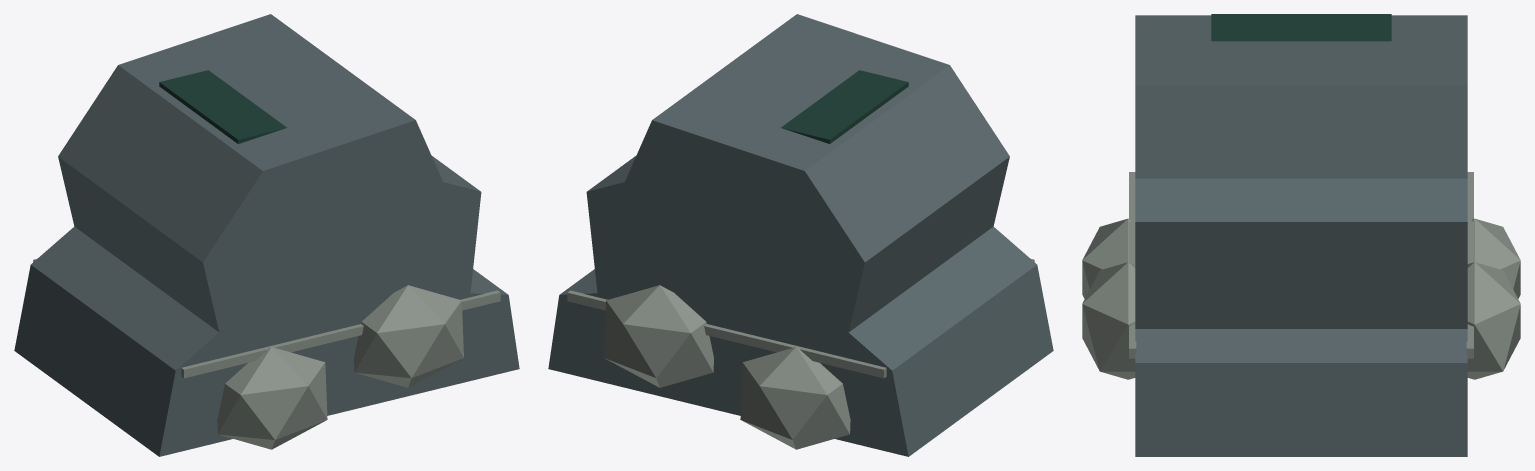
The model's file is PirateCove_CliffWall_Showcase.glb.
The picture shows the model from 3 angles, left to right: view 1: azimuth 30°, elevation 25°; view 2: azimuth 150°, elevation 25°; view 3: azimuth 270°, elevation 25°; orthographic projection. The views are drawn at different scales.
Parts seen in each view (by area): view 1: PirateCove_CliffWall_Showcase; view 2: PirateCove_CliffWall_Showcase; view 3: PirateCove_CliffWall_Showcase.
Boxes of the visible parts, box(x1,y1,x2,y2) form: PirateCove_CliffWall_Showcase: box(14, 14, 519, 456); PirateCove_CliffWall_Showcase: box(548, 14, 1053, 456); PirateCove_CliffWall_Showcase: box(1082, 14, 1520, 456).
Size of the model in its own units: 6.6 by 5.1 by 6.08.
